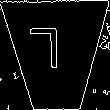L_S: (39, 30, 72, 81)
